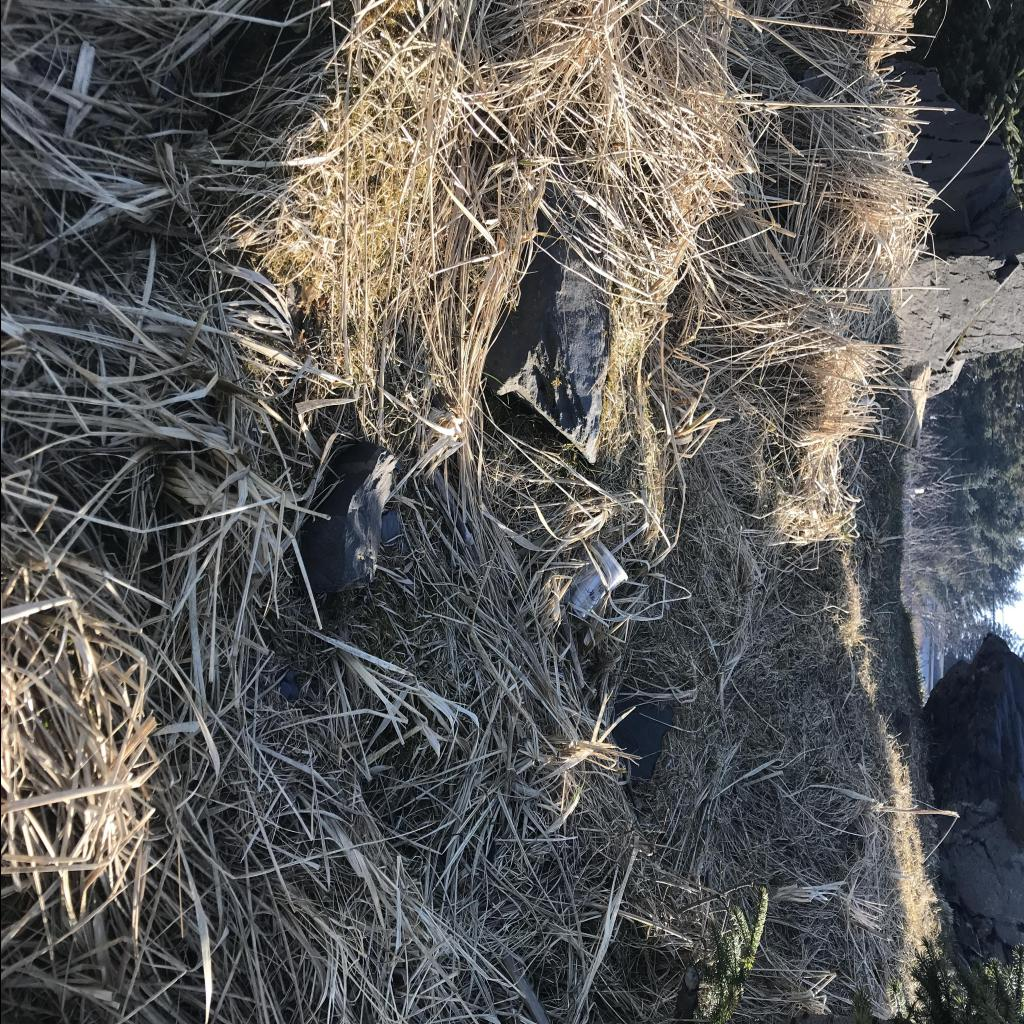Disposable plastic cup: (564, 538, 628, 620)
Plastic lid: (594, 537, 628, 581)
